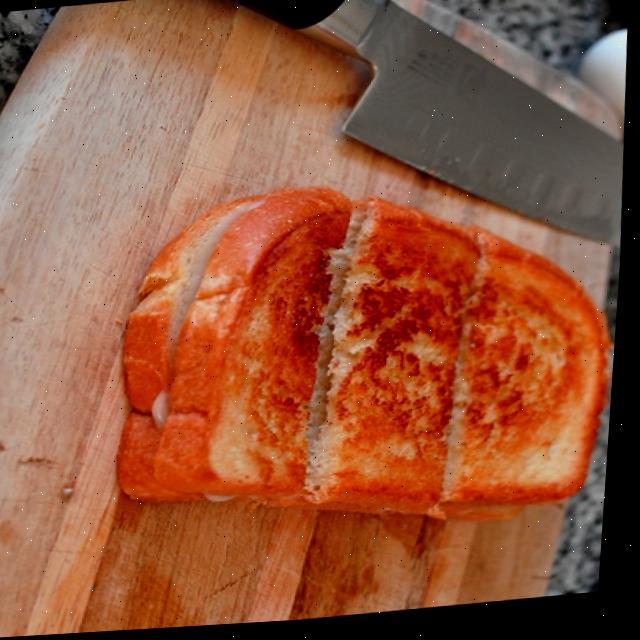面包点心: (108, 162, 630, 566)
